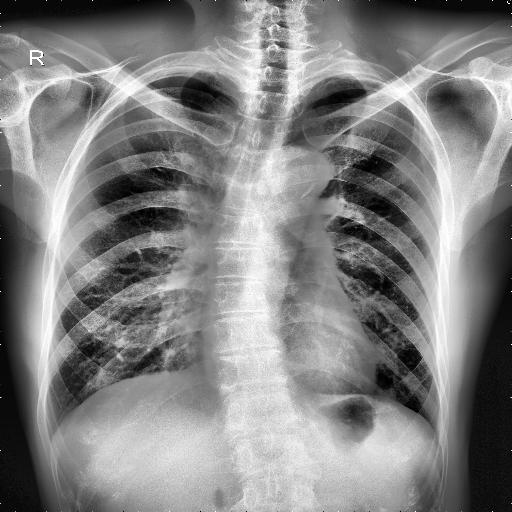0- Aortic enlargement: (259, 142, 331, 214), (273, 145, 331, 194)
9- Other lesion: (213, 152, 297, 403)
